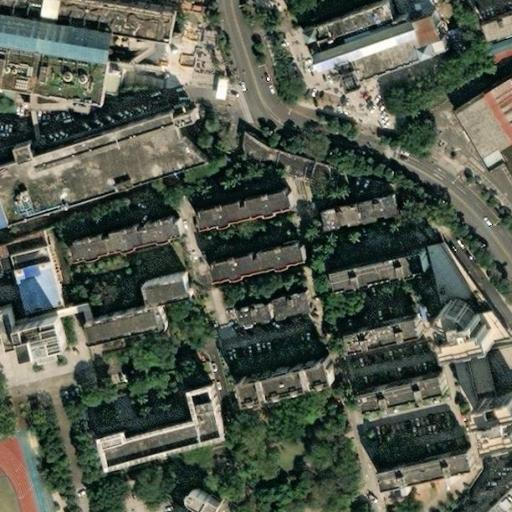building: (0, 108, 208, 220), (96, 388, 228, 473), (232, 128, 331, 184), (314, 17, 419, 68), (235, 357, 332, 407), (370, 450, 471, 491), (191, 192, 287, 234), (201, 244, 297, 285), (333, 248, 430, 288), (452, 100, 510, 163), (82, 309, 166, 351), (361, 373, 445, 411), (11, 264, 63, 323), (64, 227, 140, 267), (20, 313, 74, 368), (318, 195, 398, 231), (444, 302, 500, 352), (351, 37, 418, 78), (346, 318, 422, 354), (462, 345, 494, 408), (477, 392, 512, 444), (139, 278, 191, 312), (172, 339, 211, 380), (134, 219, 179, 249), (265, 291, 304, 319), (7, 249, 49, 273), (480, 17, 512, 46), (181, 488, 219, 512), (414, 11, 442, 43), (479, 488, 512, 511), (230, 305, 264, 326), (480, 153, 504, 175), (497, 145, 512, 177), (63, 307, 90, 324), (18, 142, 38, 162), (206, 79, 222, 103), (414, 42, 430, 58), (186, 275, 200, 292), (426, 38, 440, 50), (411, 34, 422, 46)
